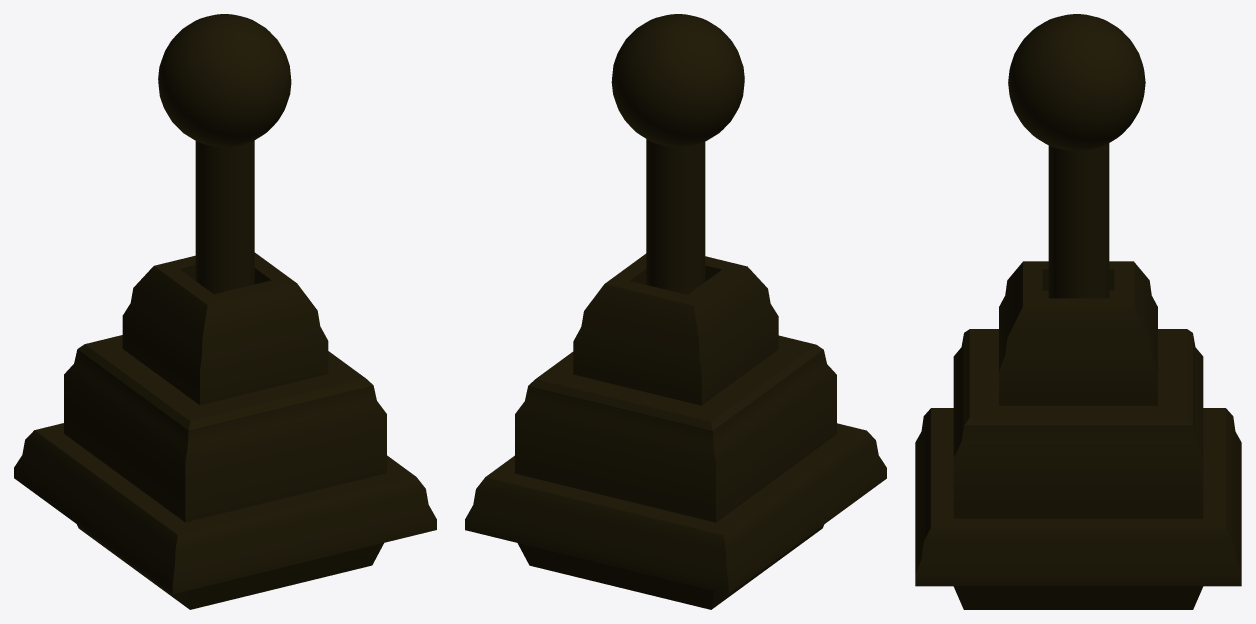
The model's file is JoyStick.fbx.
3 views of the same model, side by side, from view 1: azimuth 30°, elevation 25°; view 2: azimuth 150°, elevation 25°; view 3: azimuth 270°, elevation 25° (orthographic). The views are drawn at different scales.
Visible parts, largest first — view 1: Box108; view 2: Box108; view 3: Box108.
Part boxes in pixels (x1,y1,x2,y2): Box108: (14,14,436,609); Box108: (465,14,886,609); Box108: (915,14,1241,609).
Size of the model in its own units: 4.1 by 7.84 by 4.27.
